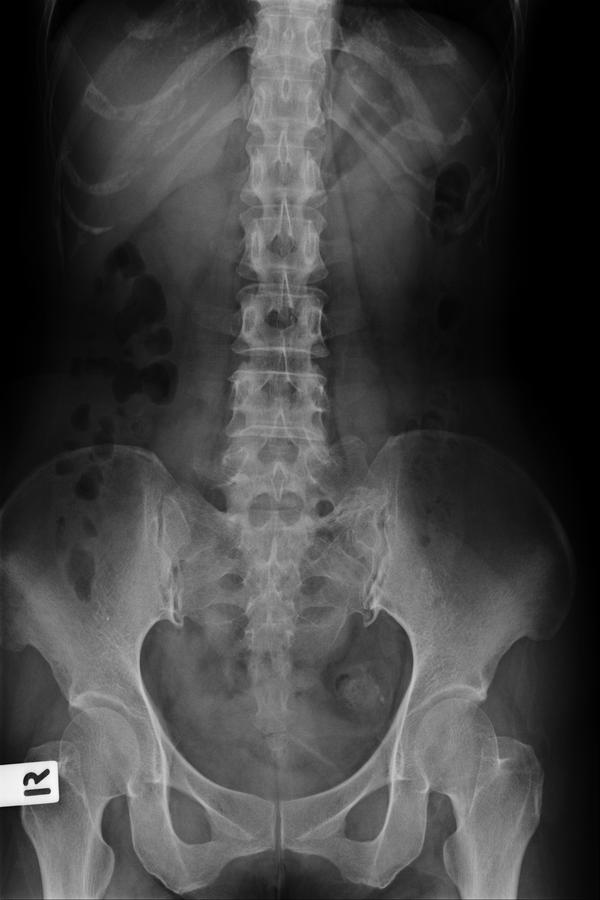lumbar scoliosis: (221, 8, 339, 559)
